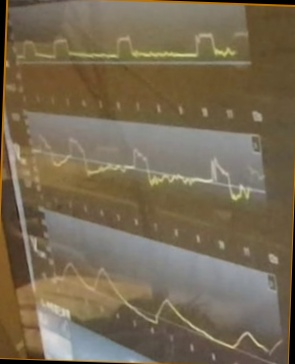Accumulation Flow: (34, 132, 252, 203)
Volume: (56, 260, 283, 354)
